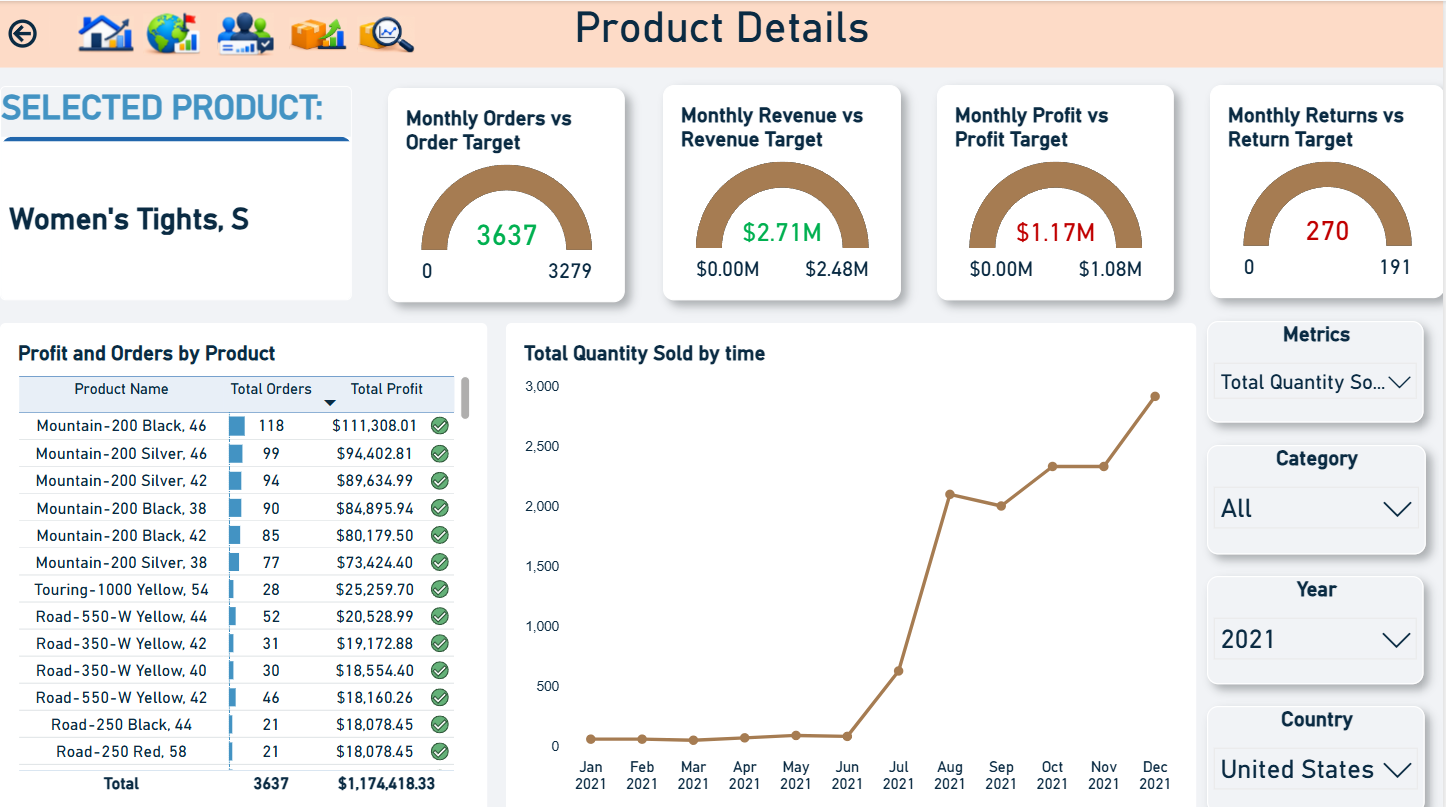

The page's visual inventory and layout, read from the dashboard file:
{"tool":"powerbi","page":{"name":"Product Analysis","canvas":[1280,720],"ordinal":5},"visuals":[{"type":"lineChart","fields":{"Category":["Dim_Date.YearMonth"],"Y":["Measure Table.Total Quantity Sold"]},"box":[448.5,285.2,611.8,434.4],"z":0},{"type":"slicer","title":"Metrics","fields":{"Values":["Measure for Product.Measure for Product"]},"box":[1070.2,283.7,192.4,90.4],"z":1000},{"type":"group","id":"g1","title":"Group 2","box":[0,0,1280.4,58.5],"z":2000,"group":"g2"},{"type":"cardVisual","title":"SELECTED PRODUCT:","fields":{"Data":["Max(Dim Product.ProductName)"]},"box":[0,75.4,312.1,189.8],"z":2000},{"type":"actionButton","box":[0,8.9,44.3,39.9],"z":3000,"group":"g3"},{"type":"gauge","title":"Monthly Orders vs Order Target","fields":{"MaxValue":["Measure Table.Order Target"],"Y":["Measure Table.Total Orders"]},"box":[344.2,76.8,209.5,189.6],"z":3000},{"type":"actionButton","box":[312.7,0,63.5,58.8],"z":3125,"group":"g3"},{"type":"actionButton","box":[123.3,0,58.5,58.5],"z":3250,"group":"g3"},{"type":"actionButton","box":[64.5,0,58.5,58.5],"z":3500,"group":"g3"},{"type":"actionButton","box":[188.5,0,64.5,58.5],"z":4000,"group":"g3"},{"type":"tableEx","title":"Profit and Orders by Product","fields":{"Values":["Dim Product.ProductName","Measure Table.Total Orders","Measure Table.Total Profit"]},"box":[0,285.3,432,435],"z":4000},{"type":"actionButton","box":[252.7,0,64.6,58.8],"z":4500,"group":"g3"},{"type":"gauge","title":"Monthly Revenue vs Revenue Target","fields":{"MaxValue":["Measure Table.Revenue Target"],"Y":["Measure Table.Total Revenue"]},"box":[587.6,74.8,210.5,190.6],"z":5000},{"type":"gauge","title":"Monthly Profit vs Profit Target","fields":{"MaxValue":["Measure Table.Profit Target"],"Y":["Measure Table.Total Profit"]},"box":[831.1,74.8,209.5,190.6],"z":6000},{"type":"gauge","title":"Monthly Returns vs Return Target","fields":{"MaxValue":["Measure Table.Return Target"],"Y":["Measure Table.Total Returns"]},"box":[1072.5,74.8,207.5,188.6],"z":7000},{"type":"slicer","title":"Country","fields":{"Values":["Dim Territory.Country"]},"box":[1070.2,625.1,193.3,94.9],"z":8000},{"type":"slicer","title":"Year","fields":{"Values":["Dim_Date.Year"]},"box":[1070.2,509.9,192.4,95.8],"z":9000},{"type":"group","id":"g2","title":"Group 1","box":[0,0,1280.4,58.5],"z":10000},{"type":"slicer","title":"Category","fields":{"Values":["Dim Product.CategoryName"]},"box":[1070.3,393.5,193.5,97.3],"z":11000},{"type":"textbox","box":[0,0,1280.4,58.5],"z":12000,"group":"g1"},{"type":"group","id":"g3","title":"Group 3","box":[0,0,376,58.5],"z":14002,"group":"g2"}]}

Visuals, with their boxes in screenshot pixels (x1, y1, x2, y2), scaled from the page's 1280x720 canvas onto the 1446x807 screenshot:
lineChart - Dim_Date.YearMonth x Measure Table.Total Quantity Sold: bbox(507, 320, 1198, 806)
"Metrics" slicer: bbox(1209, 318, 1426, 419)
"Group 2" group: bbox(0, 0, 1445, 66)
"SELECTED PRODUCT:" cardVisual: bbox(0, 85, 353, 297)
actionButton: bbox(0, 10, 50, 55)
"Monthly Orders vs Order Target" gauge: bbox(389, 86, 626, 299)
actionButton: bbox(353, 0, 425, 66)
actionButton: bbox(139, 0, 205, 66)
actionButton: bbox(73, 0, 139, 66)
actionButton: bbox(213, 0, 286, 66)
"Profit and Orders by Product" tableEx: bbox(0, 320, 488, 806)
actionButton: bbox(285, 0, 358, 66)
"Monthly Revenue vs Revenue Target" gauge: bbox(664, 84, 902, 297)
"Monthly Profit vs Profit Target" gauge: bbox(939, 84, 1176, 297)
"Monthly Returns vs Return Target" gauge: bbox(1212, 84, 1445, 295)
"Country" slicer: bbox(1209, 701, 1427, 806)
"Year" slicer: bbox(1209, 572, 1426, 679)
"Group 1" group: bbox(0, 0, 1445, 66)
"Category" slicer: bbox(1209, 441, 1428, 550)
textbox: bbox(0, 0, 1445, 66)
"Group 3" group: bbox(0, 0, 425, 66)
